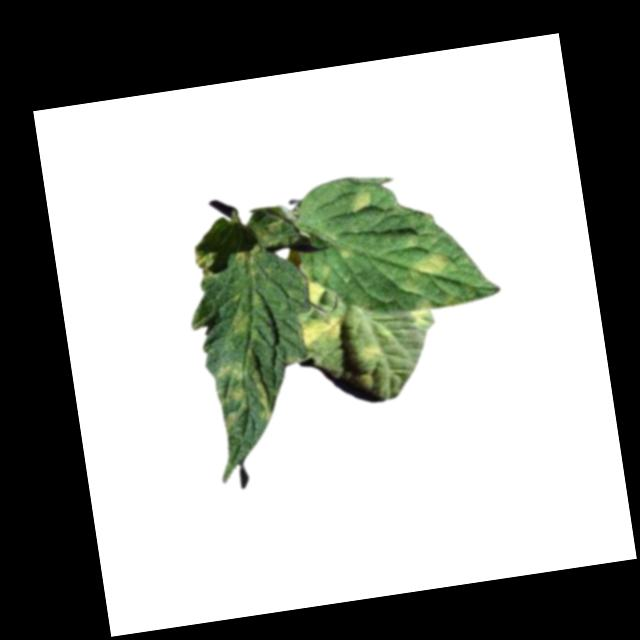Leaf_Mold: (208, 347, 274, 435), (396, 251, 456, 294), (294, 310, 348, 355), (226, 304, 254, 338), (301, 278, 332, 307), (348, 187, 377, 216), (406, 305, 435, 333), (359, 341, 382, 365)
